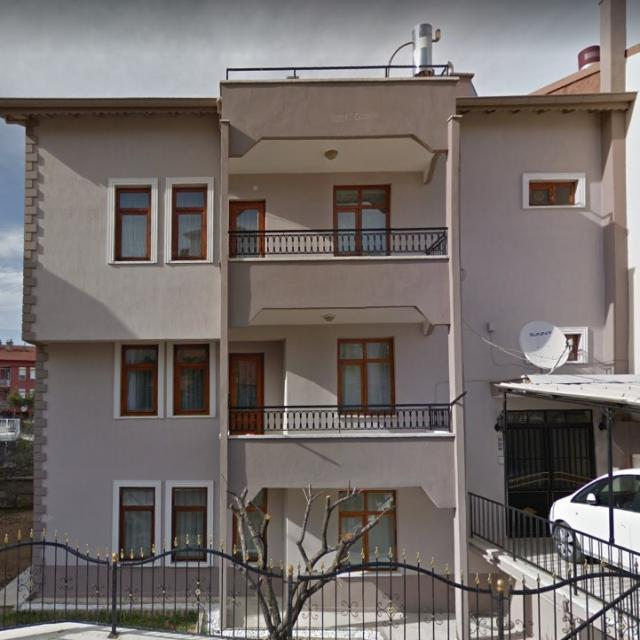Building: (0, 77, 636, 615)
